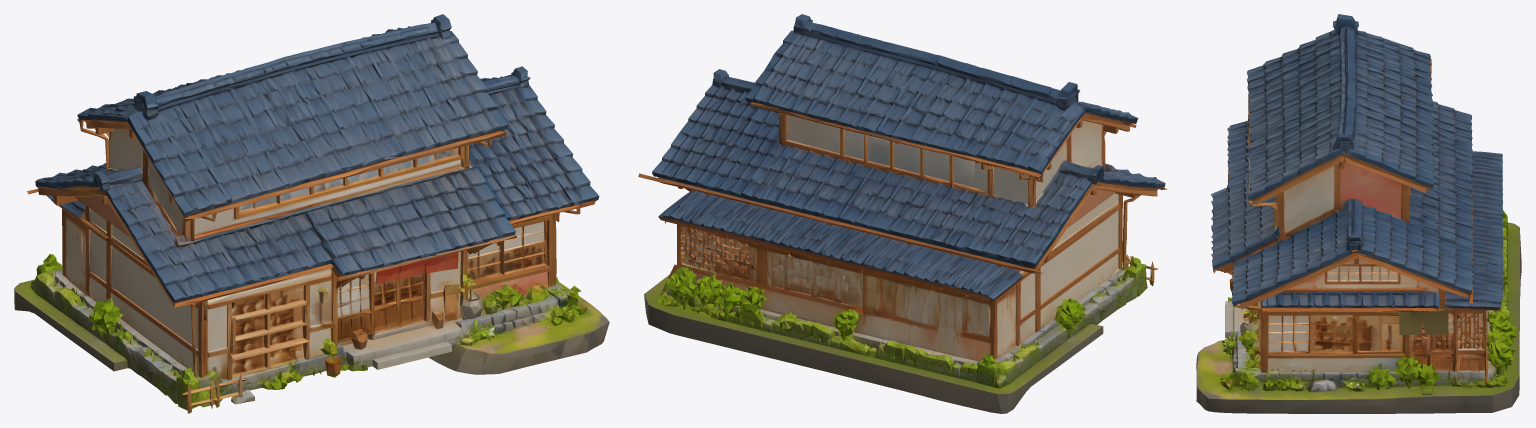
File: source.glb
The picture shows the model from 3 angles, left to right: view 1: azimuth 30°, elevation 25°; view 2: azimuth 150°, elevation 25°; view 3: azimuth 270°, elevation 25°; orthographic projection. The views are drawn at different scales.
Visible parts, largest first — view 1: model; view 2: model; view 3: model.
Boxes of the visible parts, x1,y1,x2,y2 form: model: (14, 14, 609, 413); model: (638, 14, 1167, 413); model: (1196, 14, 1521, 413).
Bounding box in the file's own units: 1.89 × 1.15 × 1.4.
Materials: 1 (1 with a texture image).
